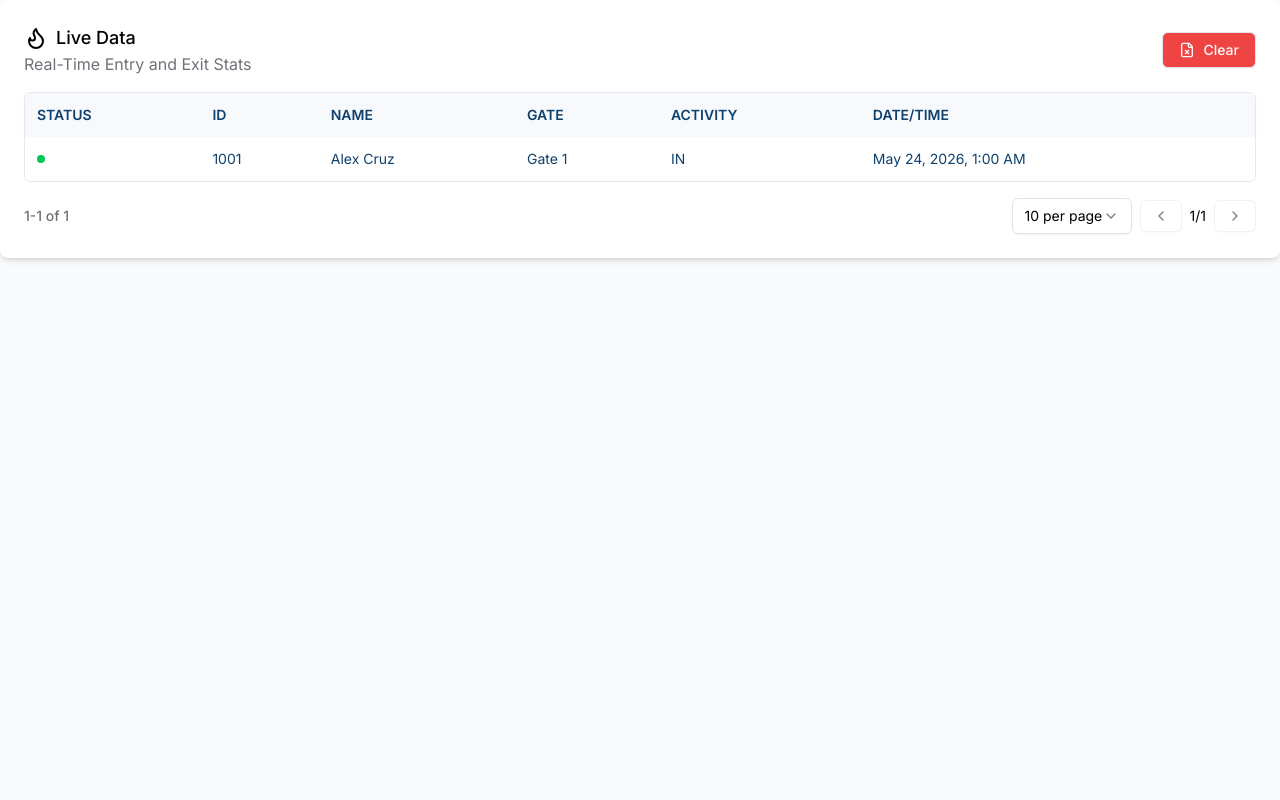
Test: LiveDataTable › shows binary status and hides remarks in MTL mode
What coordinates should you click on to do the following:
click the text "Alex Cruz"
I would click on:
 (363, 158)
Its box is [319,137,515,181].
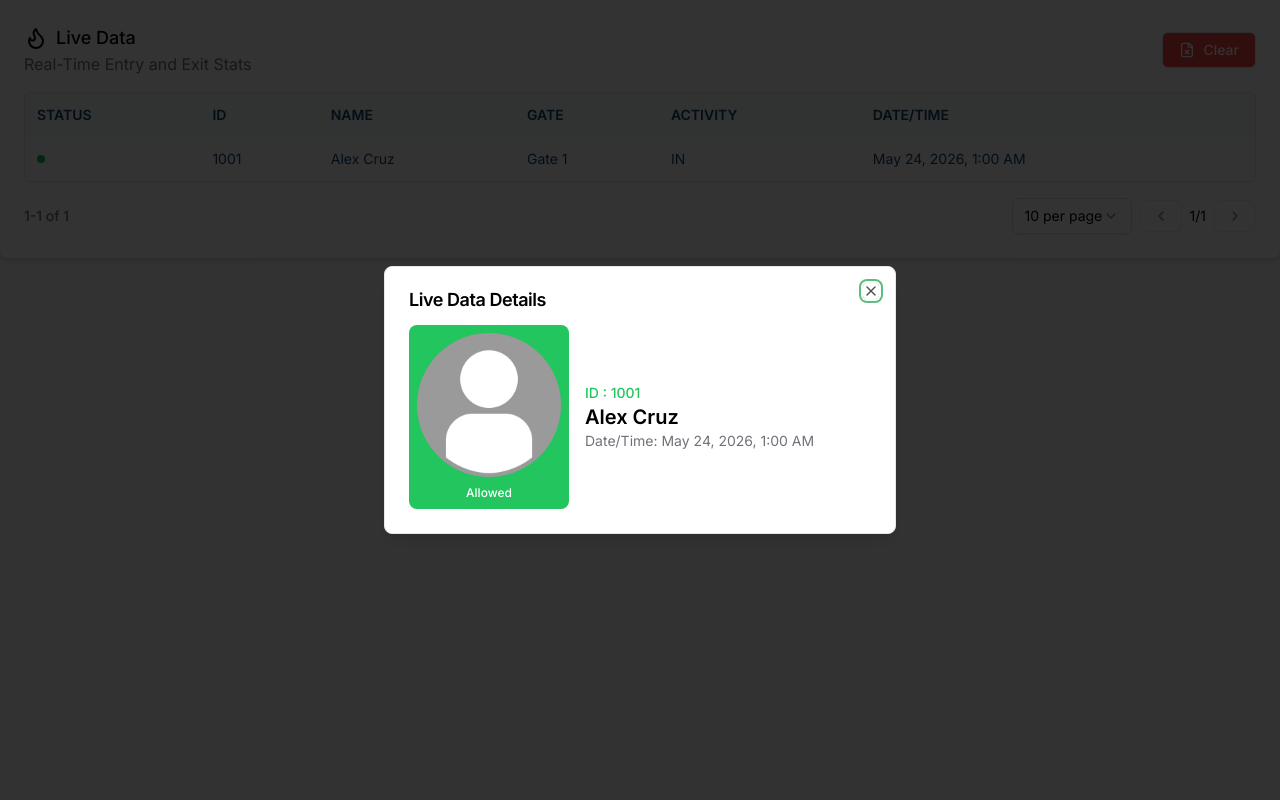
Check: the text "Allowed" is shown, box [466,485,512,500]
